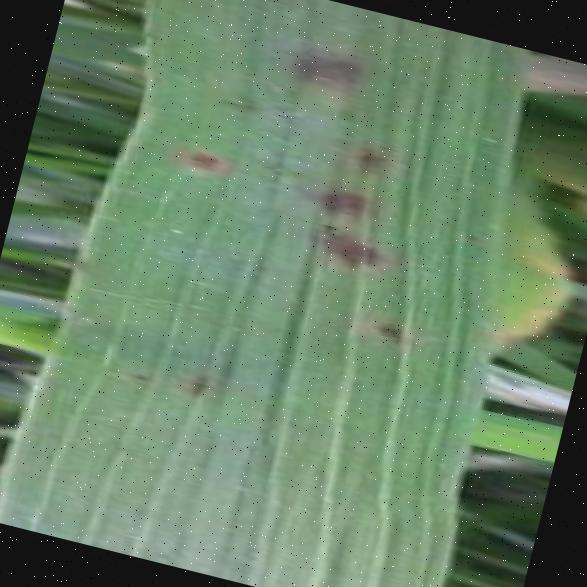Brown_Spot: (254, 19, 378, 107), (289, 204, 395, 284), (286, 164, 379, 231), (335, 130, 407, 190), (356, 300, 418, 356), (172, 132, 234, 187), (172, 358, 222, 408), (122, 357, 157, 391)
